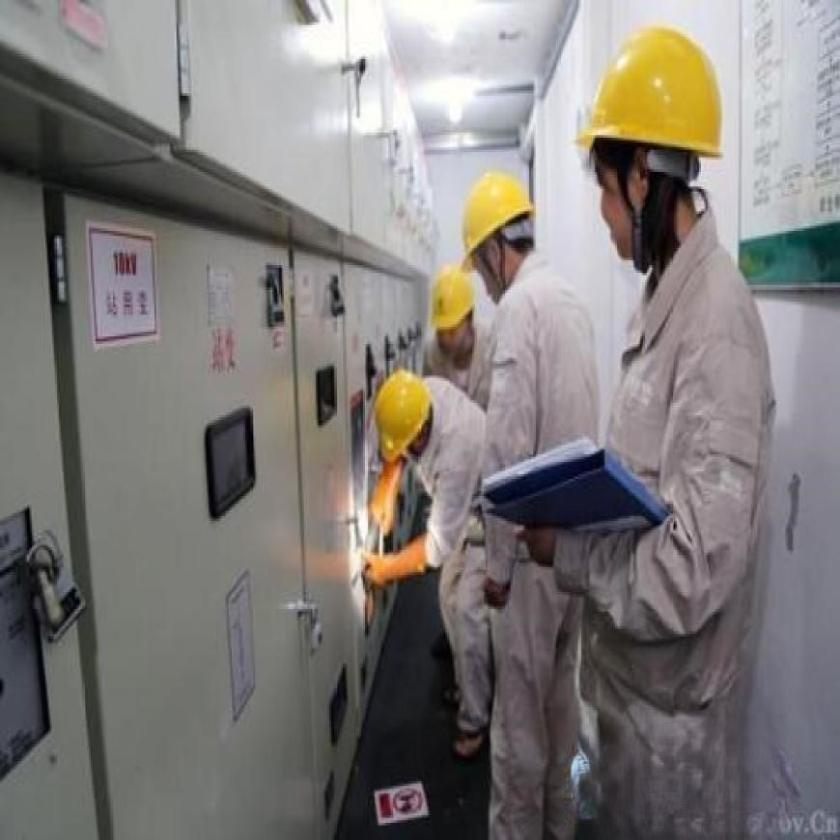Con_casco: (578, 21, 722, 277), (461, 164, 538, 312), (364, 358, 446, 457), (426, 265, 480, 355)
